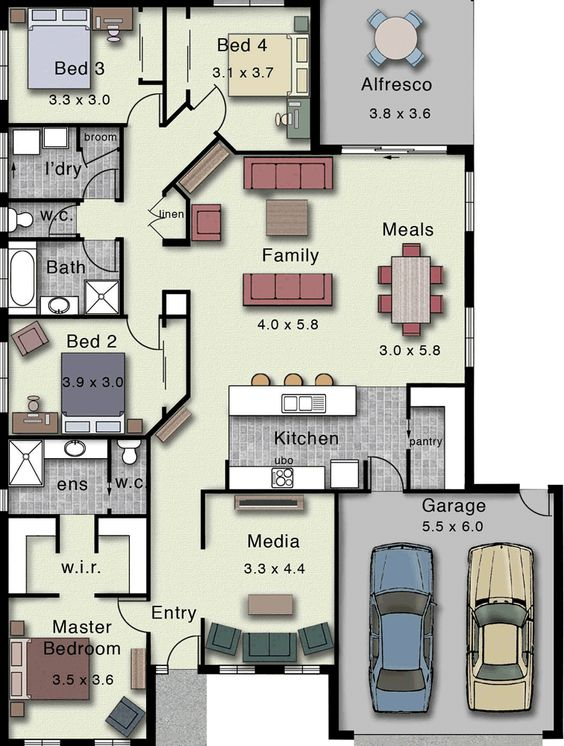balcony: (310, 1, 474, 153)
door: (196, 80, 239, 125), (123, 317, 160, 351), (369, 454, 406, 488), (123, 88, 161, 121), (115, 598, 146, 635), (82, 240, 117, 272), (163, 634, 199, 665), (80, 166, 117, 196), (46, 202, 76, 235), (517, 493, 551, 520)
restroom: (1, 435, 151, 518)
room: (184, 144, 473, 388), (200, 488, 339, 672), (162, 1, 319, 155), (1, 592, 152, 746), (1, 1, 167, 126), (225, 383, 411, 493), (1, 314, 151, 439)
window: (342, 143, 448, 154), (465, 306, 475, 366), (464, 170, 474, 230), (1, 342, 9, 413), (1, 30, 9, 100), (213, 1, 284, 7), (1, 133, 8, 193), (1, 248, 8, 308), (24, 738, 61, 746), (94, 738, 131, 746), (220, 666, 257, 674), (283, 666, 320, 674), (1, 489, 9, 512)
